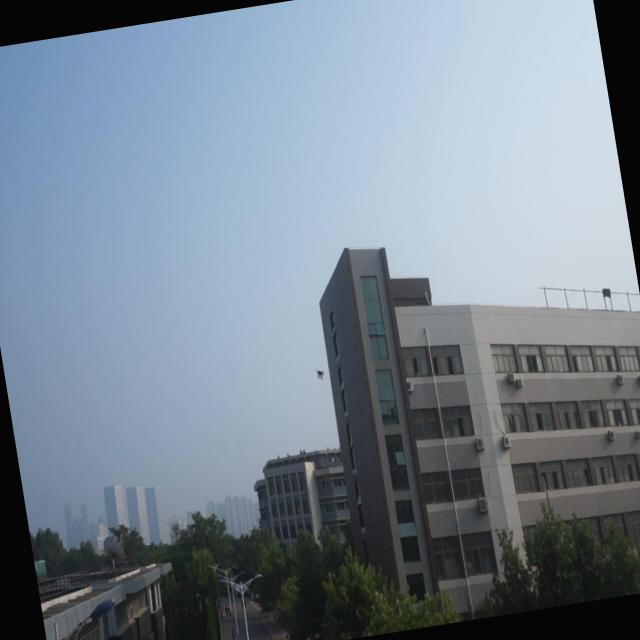drone: (313, 363, 327, 383)
